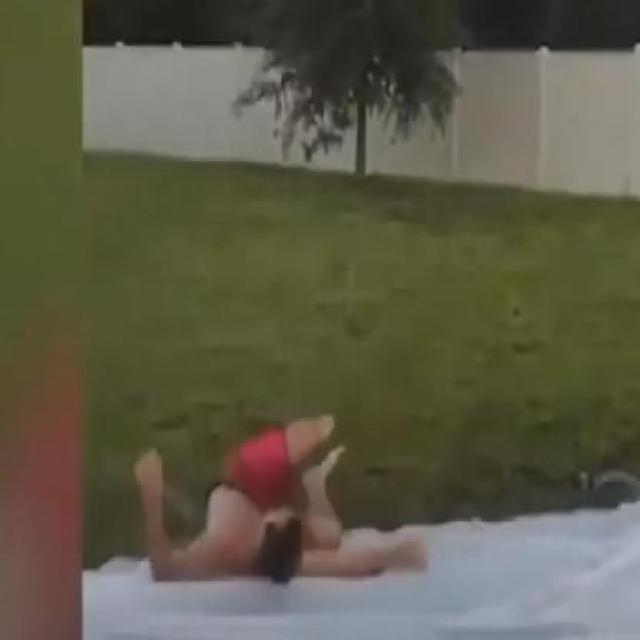fall: (134, 397, 440, 589)
